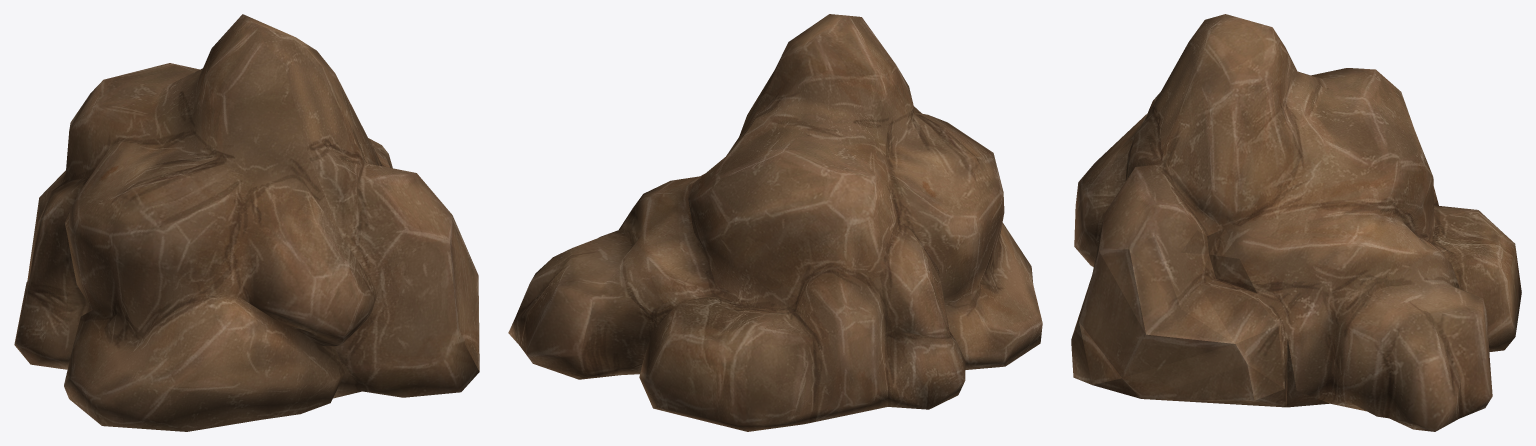
Rendered from modelRock01.fbx.
3 views of the same model, side by side, from view 1: azimuth 30°, elevation 25°; view 2: azimuth 150°, elevation 25°; view 3: azimuth 270°, elevation 25° (orthographic). The views are drawn at different scales.
Visible parts, largest first — view 1: modelRock01; view 2: modelRock01; view 3: modelRock01.
Part boxes in pixels (x1=…): modelRock01: x1=14, y1=14, x2=479, y2=431; modelRock01: x1=508, y1=14, x2=1042, y2=431; modelRock01: x1=1071, y1=14, x2=1521, y2=431.
Bounding box in the file's own units: 23.93 × 17.06 × 22.53.
